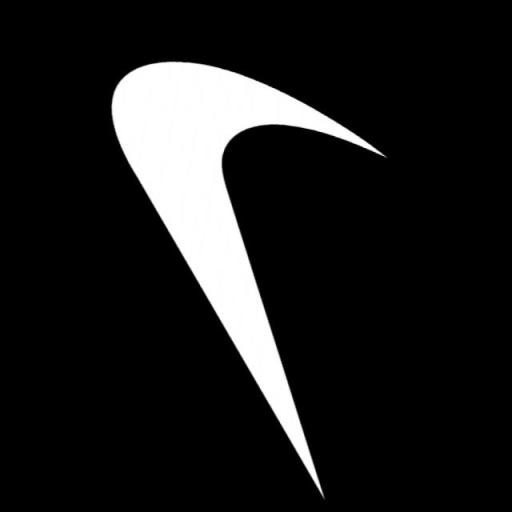Nike: (49, 49, 396, 502)
